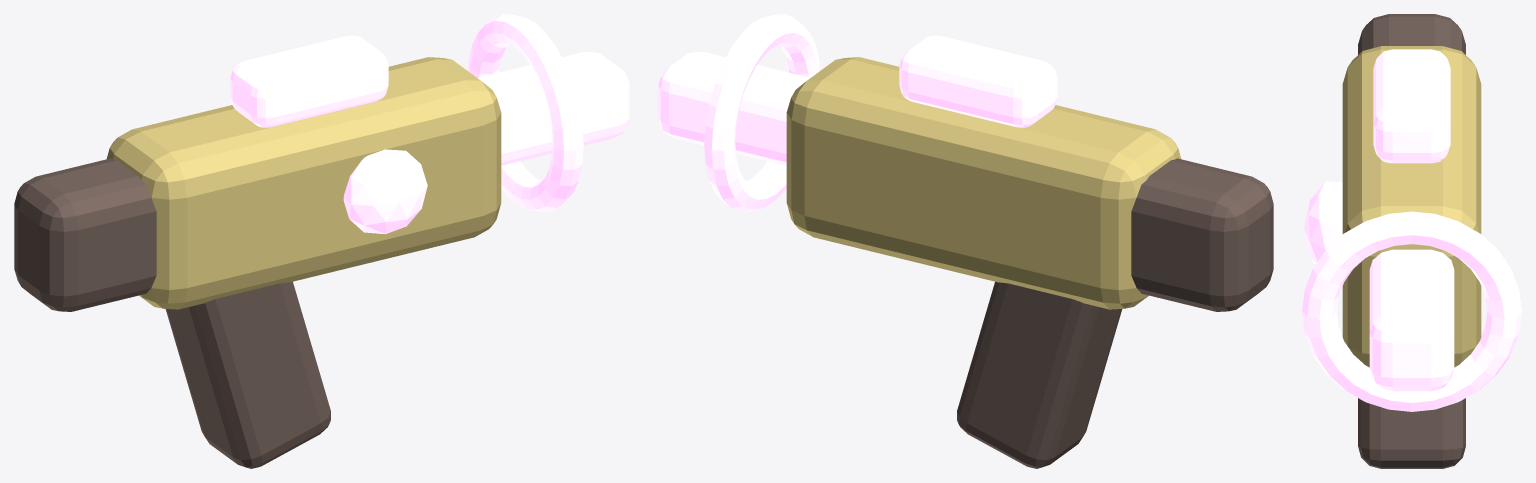
File: jellynova.glb
3 renders of one model, left to right at view 1: azimuth 30°, elevation 25°; view 2: azimuth 150°, elevation 25°; view 3: azimuth 270°, elevation 25°, orthographic. The views are drawn at different scales.
Parts seen in each view (by area): view 1: GunBody, GunGrip, GunStock, GunSight, GunNovaRing, GunBarrel, GunNovaCore; view 2: GunBody, GunGrip, GunStock, GunSight, GunNovaRing, GunBarrel; view 3: GunBody, GunNovaRing, GunBarrel, GunSight, GunGrip, GunStock, GunNovaCore.
Boxes of the visible parts, bbox=[...] form: GunBody: bbox=[106, 57, 501, 309]; GunGrip: bbox=[165, 281, 330, 468]; GunStock: bbox=[14, 158, 156, 311]; GunSight: bbox=[230, 35, 388, 127]; GunNovaRing: bbox=[468, 14, 583, 211]; GunBarrel: bbox=[478, 51, 629, 165]; GunNovaCore: bbox=[343, 149, 427, 234]; GunBody: bbox=[786, 57, 1181, 309]; GunGrip: bbox=[957, 281, 1122, 468]; GunStock: bbox=[1131, 158, 1273, 311]; GunSight: bbox=[899, 35, 1057, 127]; GunNovaRing: bbox=[704, 14, 819, 211]; GunBarrel: bbox=[658, 51, 809, 165]; GunBody: bbox=[1342, 46, 1481, 367]; GunNovaRing: bbox=[1302, 211, 1521, 411]; GunBarrel: bbox=[1369, 249, 1454, 391]; GunSight: bbox=[1373, 49, 1450, 163]; GunGrip: bbox=[1358, 398, 1465, 468]; GunStock: bbox=[1358, 14, 1465, 54]; GunNovaCore: bbox=[1304, 181, 1342, 264].
Bounding box in the file's own units: 1.91 × 1.18 × 0.57.
